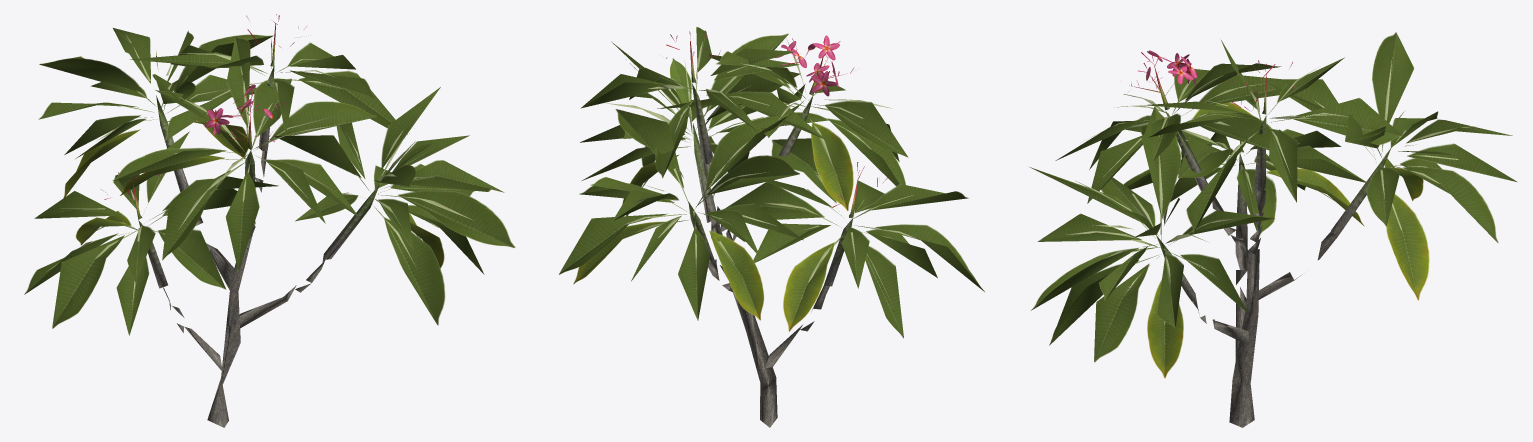
The model's file is cay-dai.glb.
3 views of the same model, side by side, from view 1: azimuth 30°, elevation 25°; view 2: azimuth 150°, elevation 25°; view 3: azimuth 270°, elevation 25° (orthographic). The views are drawn at different scales.
Parts seen in each view (by area): view 1: Plumeria_rubra_pink_HD_Plumeria rub leaf 01_0, Plumeria_rubra_pink_HD_Plumeria bark_0, Plumeria_rubra_pink_HD_Plumeria rub leaf 01 F1_0, Plumeria_rubra_pink_HD_Plumeria leaf stalk_0, Plumeria_rubra_pink_HD_Material_0, Plumeria_rubra_pink_HD_Plumeria petal_0; view 2: Plumeria_rubra_pink_HD_Plumeria rub leaf 01_0, Plumeria_rubra_pink_HD_Plumeria rub leaf 01 F1_0, Plumeria_rubra_pink_HD_Plumeria leaf stalk_0, Plumeria_rubra_pink_HD_Plumeria bark_0, Plumeria_rubra_pink_HD_Material_0, Plumeria_rubra_pink_HD_Plumeria petal_0, Plumeria_rubra_pink_HD_Plumeria rub leaf 01 young_0, Plumeria_rubra_pink_HD_Flower stalk 01_0; view 3: Plumeria_rubra_pink_HD_Plumeria rub leaf 01_0, Plumeria_rubra_pink_HD_Plumeria rub leaf 01 F1_0, Plumeria_rubra_pink_HD_Plumeria bark_0, Plumeria_rubra_pink_HD_Plumeria leaf stalk_0, Plumeria_rubra_pink_HD_Material_0, Plumeria_rubra_pink_HD_Plumeria petal_0.
Part boxes in pixels (x1,y1,x2,y2): Plumeria_rubra_pink_HD_Plumeria rub leaf 01_0: [24, 28, 515, 335]; Plumeria_rubra_pink_HD_Plumeria bark_0: [163, 151, 325, 427]; Plumeria_rubra_pink_HD_Plumeria rub leaf 01 F1_0: [63, 117, 444, 268]; Plumeria_rubra_pink_HD_Plumeria leaf stalk_0: [46, 34, 473, 304]; Plumeria_rubra_pink_HD_Material_0: [138, 67, 379, 288]; Plumeria_rubra_pink_HD_Plumeria petal_0: [205, 84, 273, 134]; Plumeria_rubra_pink_HD_Plumeria rub leaf 01_0: [559, 27, 984, 338]; Plumeria_rubra_pink_HD_Plumeria rub leaf 01 F1_0: [573, 122, 853, 331]; Plumeria_rubra_pink_HD_Plumeria leaf stalk_0: [607, 38, 919, 302]; Plumeria_rubra_pink_HD_Plumeria bark_0: [703, 163, 829, 427]; Plumeria_rubra_pink_HD_Material_0: [688, 83, 852, 286]; Plumeria_rubra_pink_HD_Plumeria petal_0: [775, 35, 839, 96]; Plumeria_rubra_pink_HD_Plumeria rub leaf 01 young_0: [670, 58, 691, 113]; Plumeria_rubra_pink_HD_Flower stalk 01_0: [666, 41, 864, 217]; Plumeria_rubra_pink_HD_Plumeria rub leaf 01_0: [1029, 32, 1517, 362]; Plumeria_rubra_pink_HD_Plumeria rub leaf 01 F1_0: [1147, 102, 1429, 378]; Plumeria_rubra_pink_HD_Plumeria bark_0: [1192, 189, 1337, 427]; Plumeria_rubra_pink_HD_Plumeria leaf stalk_0: [1066, 57, 1475, 344]; Plumeria_rubra_pink_HD_Material_0: [1157, 111, 1390, 301]; Plumeria_rubra_pink_HD_Plumeria petal_0: [1146, 50, 1197, 85].
Bounding box in the file's own units: 0.9359 × 0.8246 × 0.9494.
Materials: 9 (9 with a texture image).
